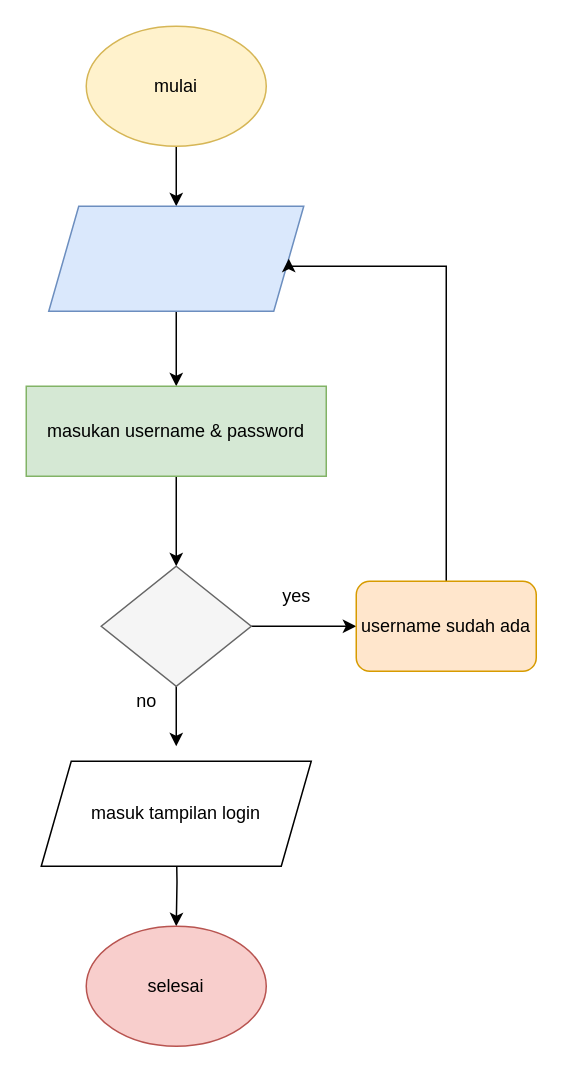
Image size: 563x1073. Some labels were removed from this diagram. The shapes that lost their labels are listed below. From the top down, each one's centre as x and y in pixels, then its label:
point (175, 258): masuk halaman register
point (175, 625): jika
